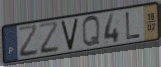4: (102, 12, 122, 45)
L: (124, 11, 142, 41)
Q: (81, 15, 102, 49)
V: (60, 17, 80, 52)
Z: (37, 20, 61, 57), (17, 23, 40, 60)
